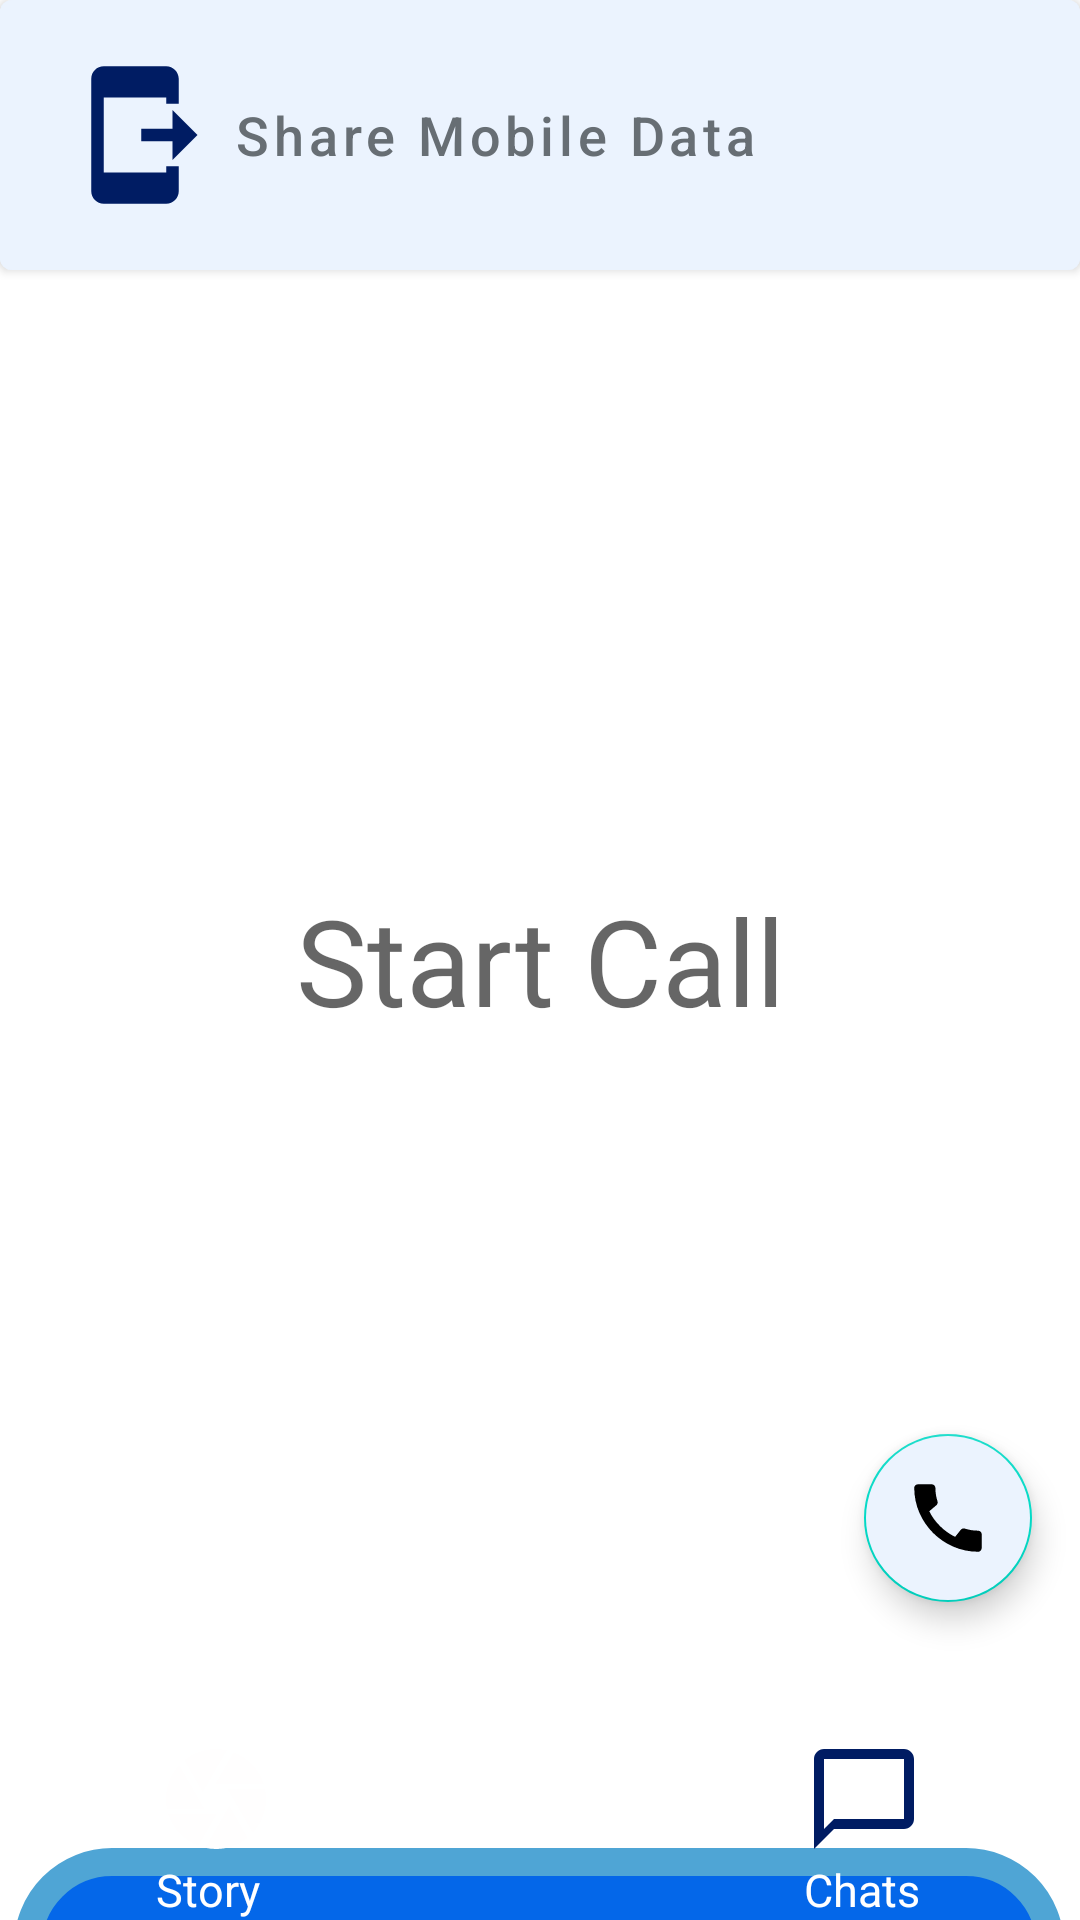

Named icons in this screenshot (1080px×1920px) and their centers, (x,y):
startcall: (948,1518)
